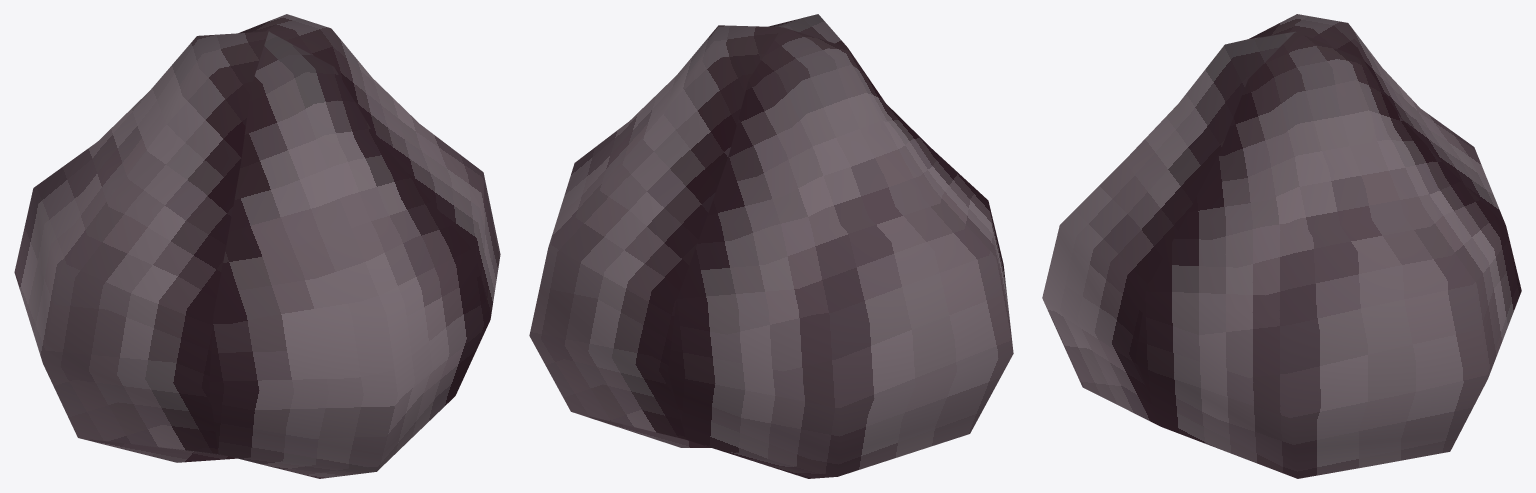
Rendered from Garlic.glb.
3 views of the same model, side by side, from view 1: azimuth 30°, elevation 25°; view 2: azimuth 150°, elevation 25°; view 3: azimuth 270°, elevation 25° (orthographic).
Visible parts, largest first — view 1: Garlic; view 2: Garlic; view 3: Garlic.
Boxes of the visible parts, left/top/right/bottom form: Garlic: left=14, top=14, right=500, bottom=478; Garlic: left=529, top=14, right=1013, bottom=478; Garlic: left=1042, top=14, right=1521, bottom=478.
Size of the model in its own units: 0.1536 by 0.1335 by 0.1415.
1 material, 1 textured.
